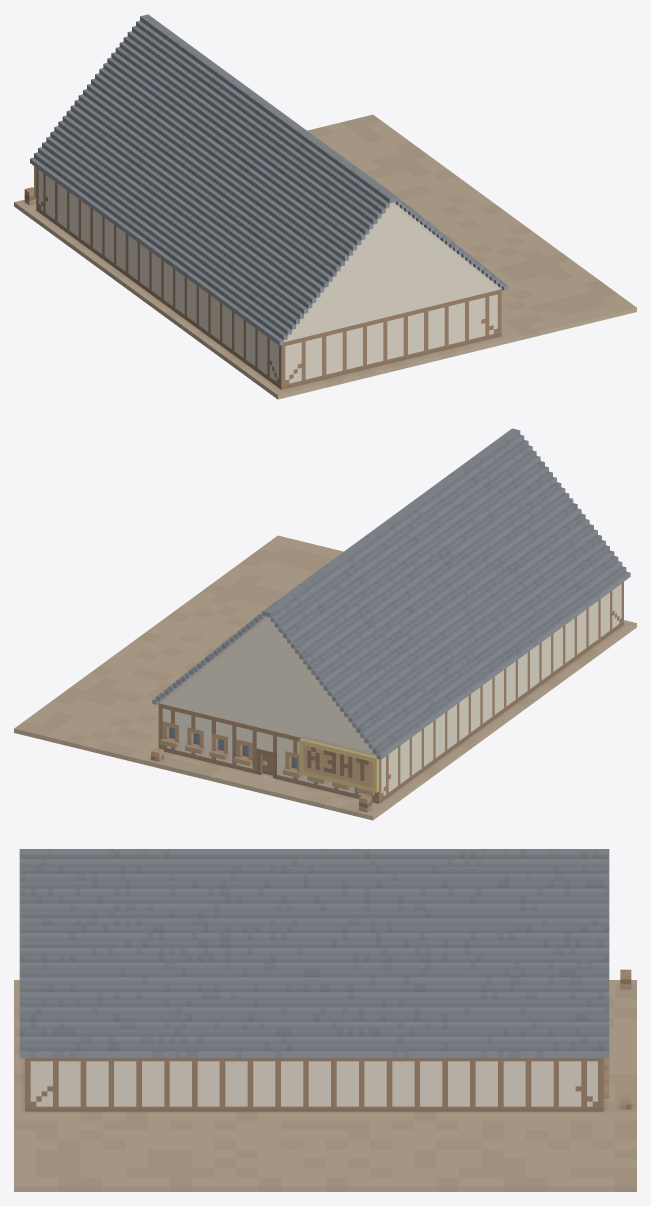
The model's file is theatre.glb.
3 renders of one model, top to bottom at view 1: azimuth 30°, elevation 25°; view 2: azimuth 150°, elevation 25°; view 3: azimuth 270°, elevation 25°, orthographic. The views are drawn at different scales.
Visible parts, largest first — view 1: theatre; view 2: theatre; view 3: theatre.
Boxes of the visible parts, left/top/right/bottom form: theatre: left=14, top=14, right=636, bottom=399; theatre: left=14, top=428, right=636, bottom=820; theatre: left=14, top=849, right=636, bottom=1191.
Size of the model in its own units: 11 by 5 by 14.
